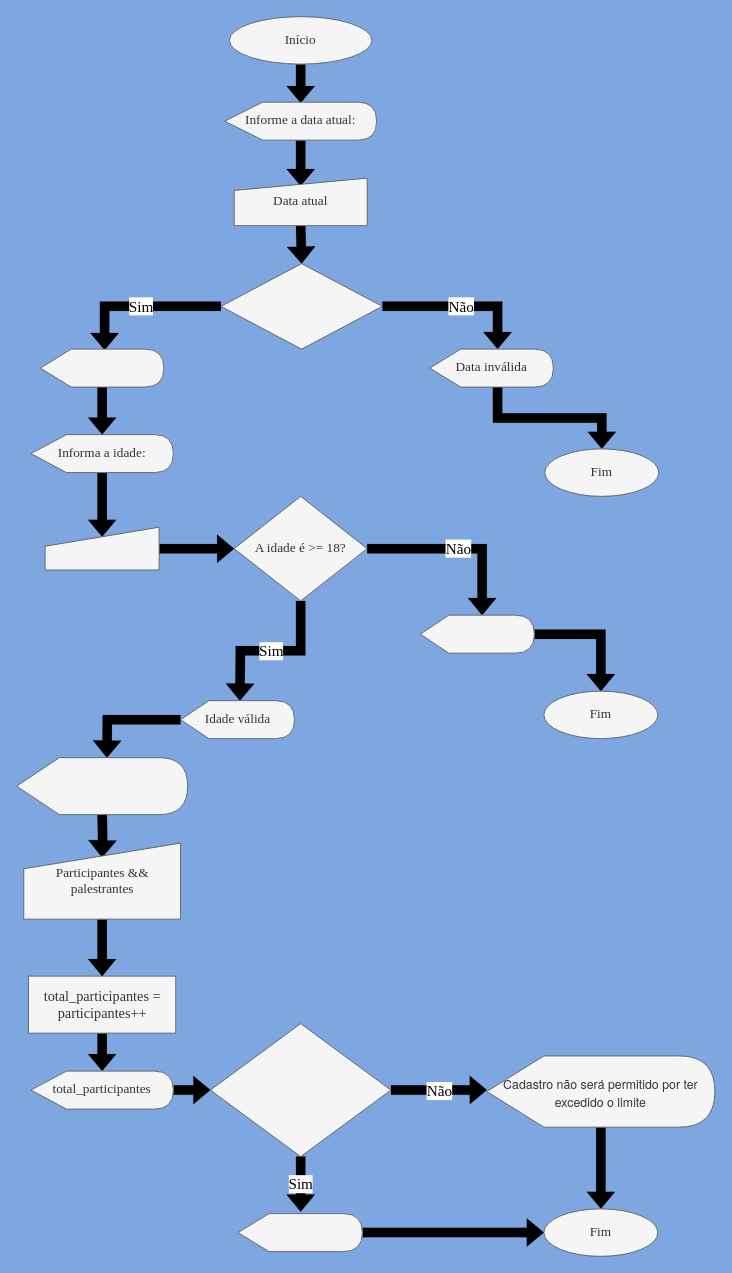
This 732x1273 diagram has some shape labels left out. Here are the shapes that lost their labels. From the top down, the centre of each, then its label:
[301,306]: A data atual é posterior a do evento?
[101,367]: Data válida
[101,548]: Idade
[476,633]: Idade inválida
[102,786]: Listar participantes e palestrantes por evento:
[300,1090]: O total_participantes < 100?
[299,1232]: Permitir o cadastro
